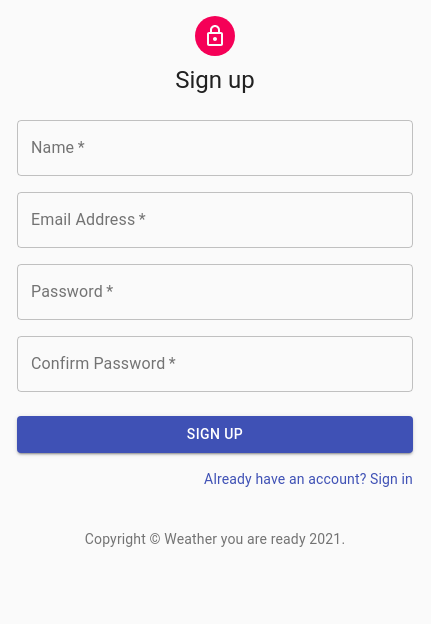
Test: checkSignup › error message shown when passwords do not match
This screenshot has width=431, height=624.
Expected: the password field with test id "confirm-password-input" is empty, [17, 336, 413, 392]
Type "password" into the password field with test id "password-input" at (215,292), box [17, 264, 413, 320]
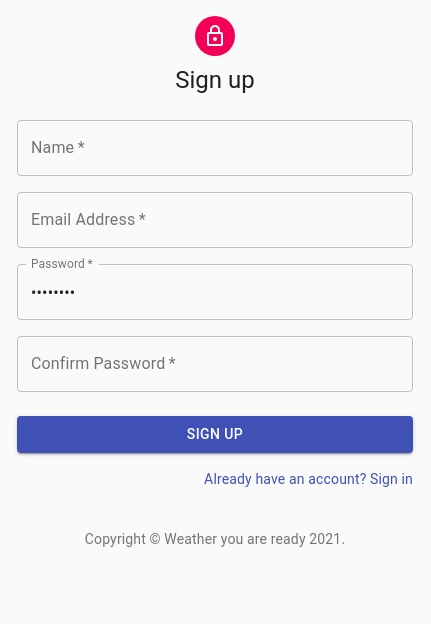
Type "wrongPassword" into the password field with test id "confirm-password-input" at (215,364), box [17, 336, 413, 392]
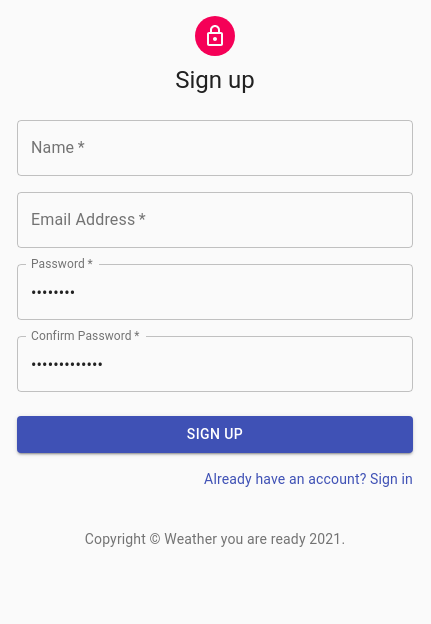
Click the button with test id "submit" at (215,434), box [17, 416, 413, 452]
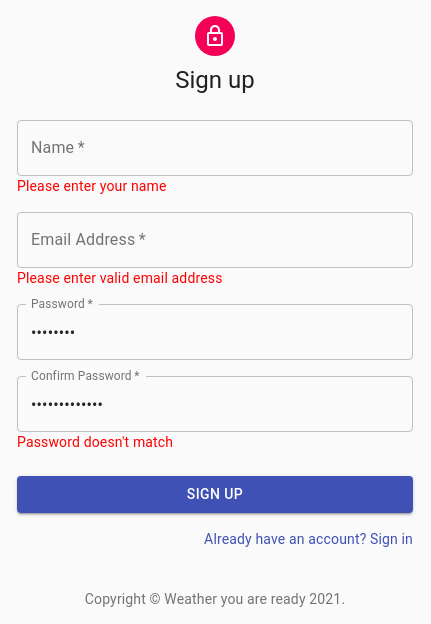
Now the text "Password doesn't match" is shown, box [17, 434, 173, 450]
